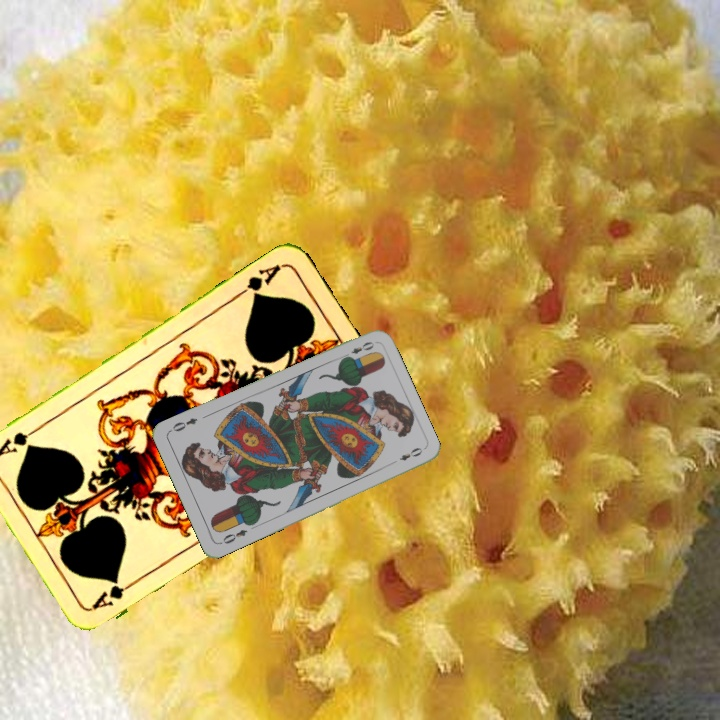EO: (339, 337, 377, 361), (216, 525, 250, 547)
GA: (233, 260, 285, 302), (88, 574, 142, 612)
